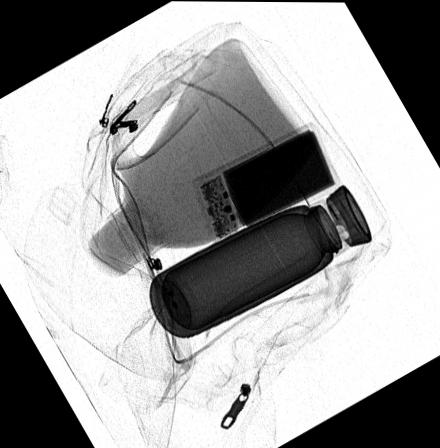Powerbank: (191, 120, 339, 243)
